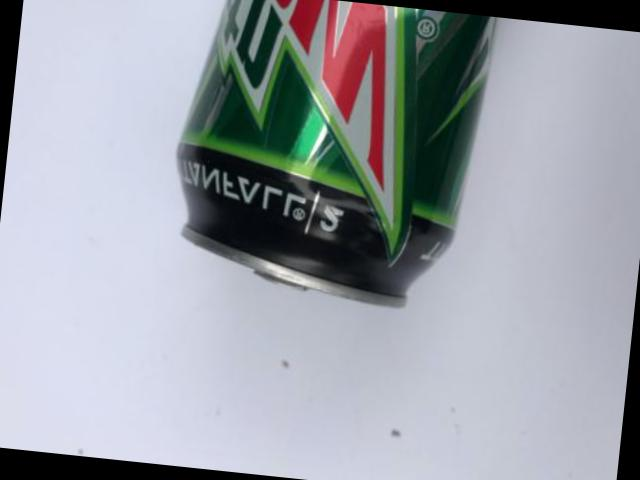metal: (175, 0, 494, 308)
